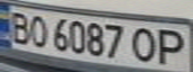0: (66, 18, 87, 55)
6: (48, 16, 72, 53)
7: (103, 21, 130, 60)
8: (84, 20, 106, 57)
B: (3, 9, 33, 44)
O: (127, 25, 163, 63), (24, 12, 51, 48)
P: (151, 26, 190, 66)
